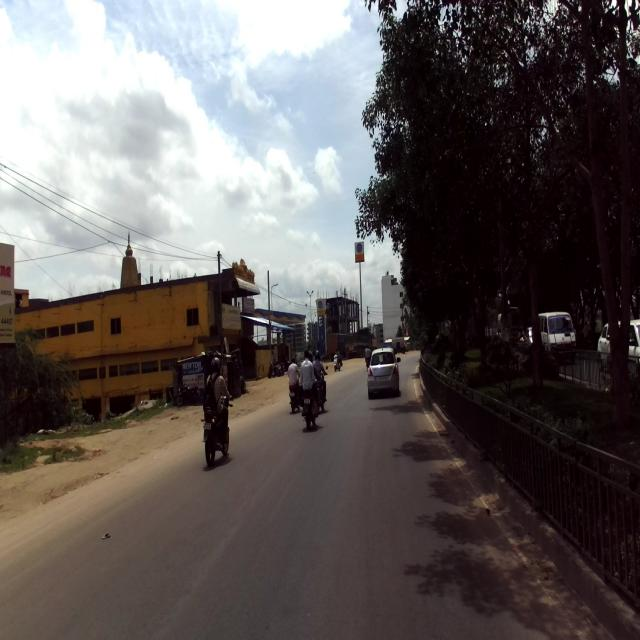Car_Maruti-Suzuki: (366, 344, 401, 399)
motorcycle: (200, 384, 233, 468)
